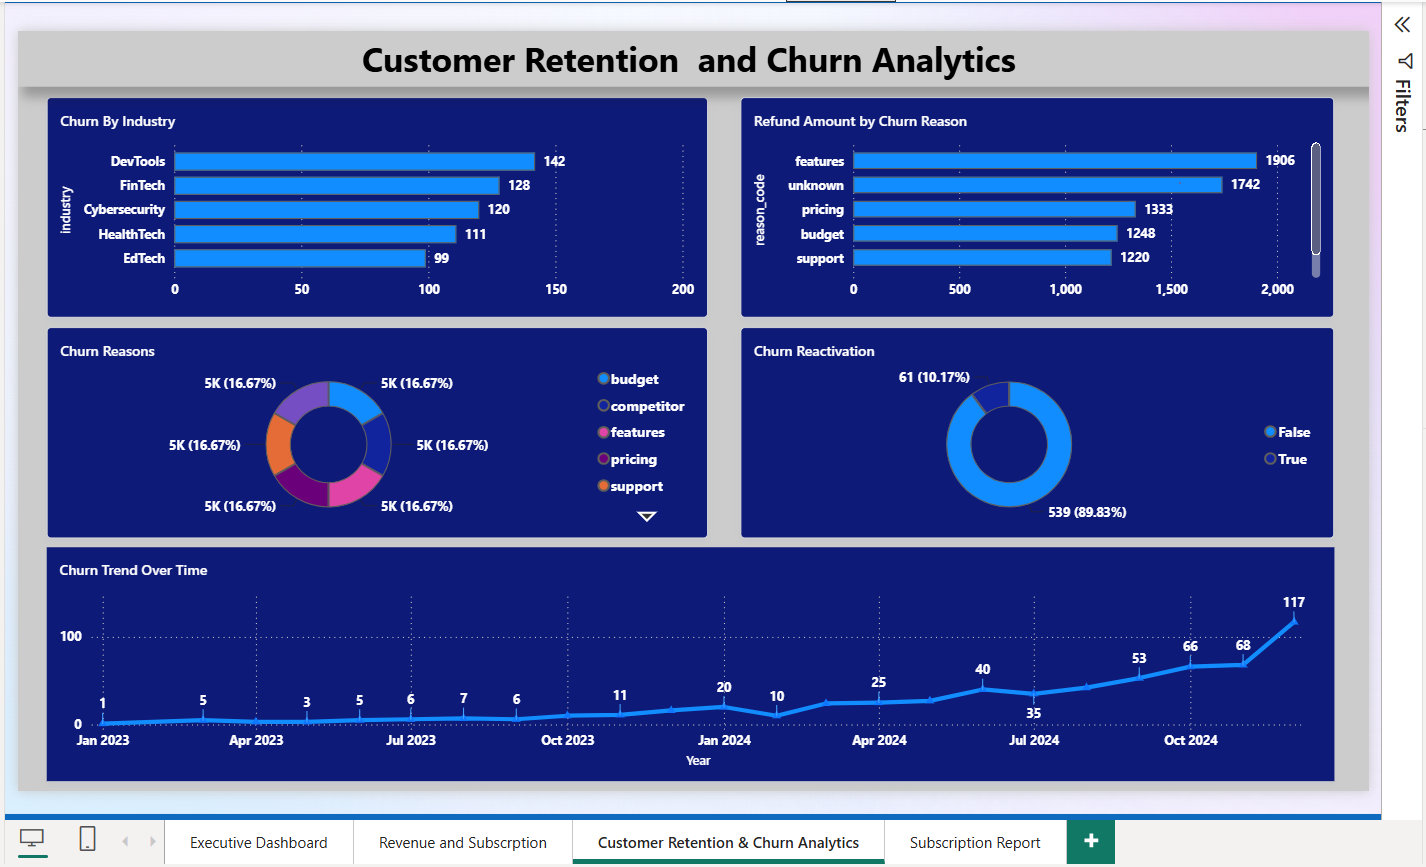

What the dashboard file says about the page in this screenshot:
{"tool":"powerbi","page":{"name":"Customer Retention  & Churn Analytics ","canvas":[1280,720],"ordinal":2},"visuals":[{"type":"clusteredBarChart","title":"Churn By Industry","fields":{"Category":["accounts.industry"],"Y":["CountNonNull(churn_events.churn_event_id)"]},"box":[27.2,62.8,626.5,208.4],"z":0},{"type":"textbox","box":[0,0,1280,52.5],"z":1000},{"type":"lineChart","title":"Churn Trend Over Time ","fields":{"Category":["churn_events.churn_date.Variation.Date Hierarchy.Year","churn_events.churn_date.Variation.Date Hierarchy.Month"],"Y":["CountNonNull(churn_events.churn_event_id)"]},"box":[27.2,489.1,1219.8,221.5],"z":2000},{"type":"donutChart","title":"Churn Reasons","fields":{"Category":["churn_events.reason_code"],"Y":["CountNonNull(subscriptions.subscription_id)"]},"box":[27.2,280.7,626.5,200.1],"z":3000},{"type":"clusteredBarChart","title":"Refund Amount by Churn Reason","fields":{"Category":["churn_events.reason_code"],"Y":["Sum(churn_events.refund_amount_usd)"]},"box":[684.5,62.8,562.5,208.4],"z":4000},{"type":"donutChart","title":"Churn Reactivation","fields":{"Category":["churn_events.is_reactivation"],"Y":["CountNonNull(churn_events.churn_event_id)"]},"box":[684.5,280.7,562.5,200.1],"z":5000}]}

Visuals, with their boxes in screenshot pixels (x1, y1, x2, y2):
"Churn By Industry" clusteredBarChart: box=[40, 93, 704, 313]
textbox: box=[11, 26, 1368, 82]
"Churn Trend Over Time " lineChart: box=[40, 544, 1333, 779]
"Churn Reasons" donutChart: box=[40, 323, 704, 535]
"Refund Amount by Churn Reason" clusteredBarChart: box=[737, 93, 1333, 313]
"Churn Reactivation" donutChart: box=[737, 323, 1333, 535]
